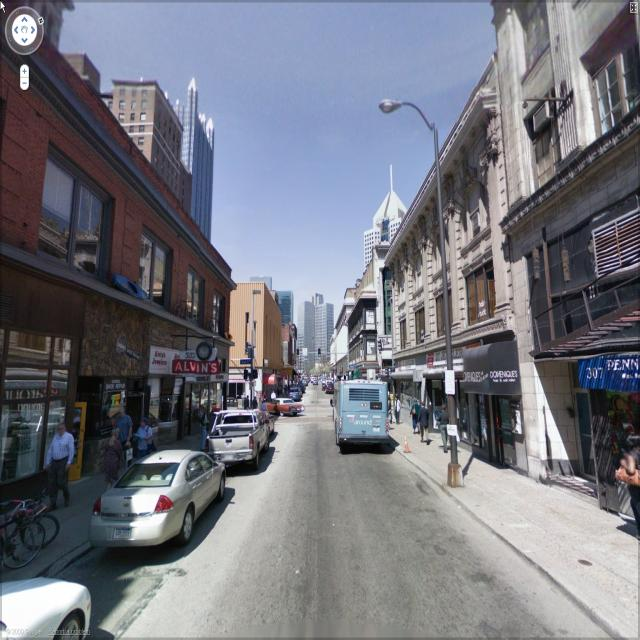b_1: (1, 66, 235, 416), (498, 8, 640, 440), (386, 86, 522, 458), (68, 49, 195, 209), (210, 284, 284, 422), (334, 263, 404, 408), (174, 76, 225, 239), (363, 180, 419, 272), (285, 284, 343, 370)
